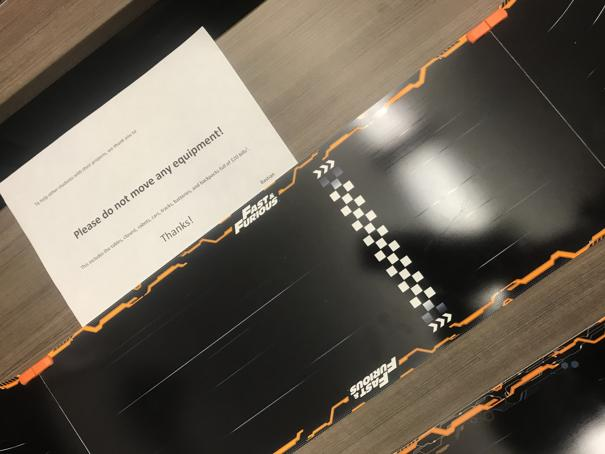Finish Line: (313, 158, 454, 334)
